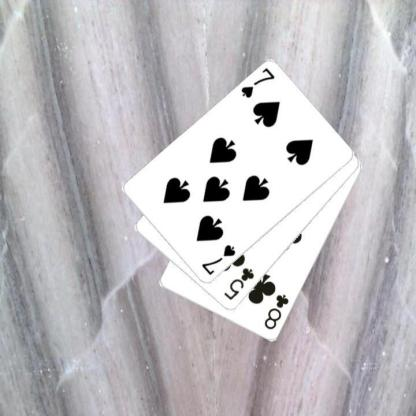5C: (221, 265, 256, 302)
7S: (199, 242, 237, 277), (238, 65, 276, 100)
8C: (262, 292, 290, 331)
